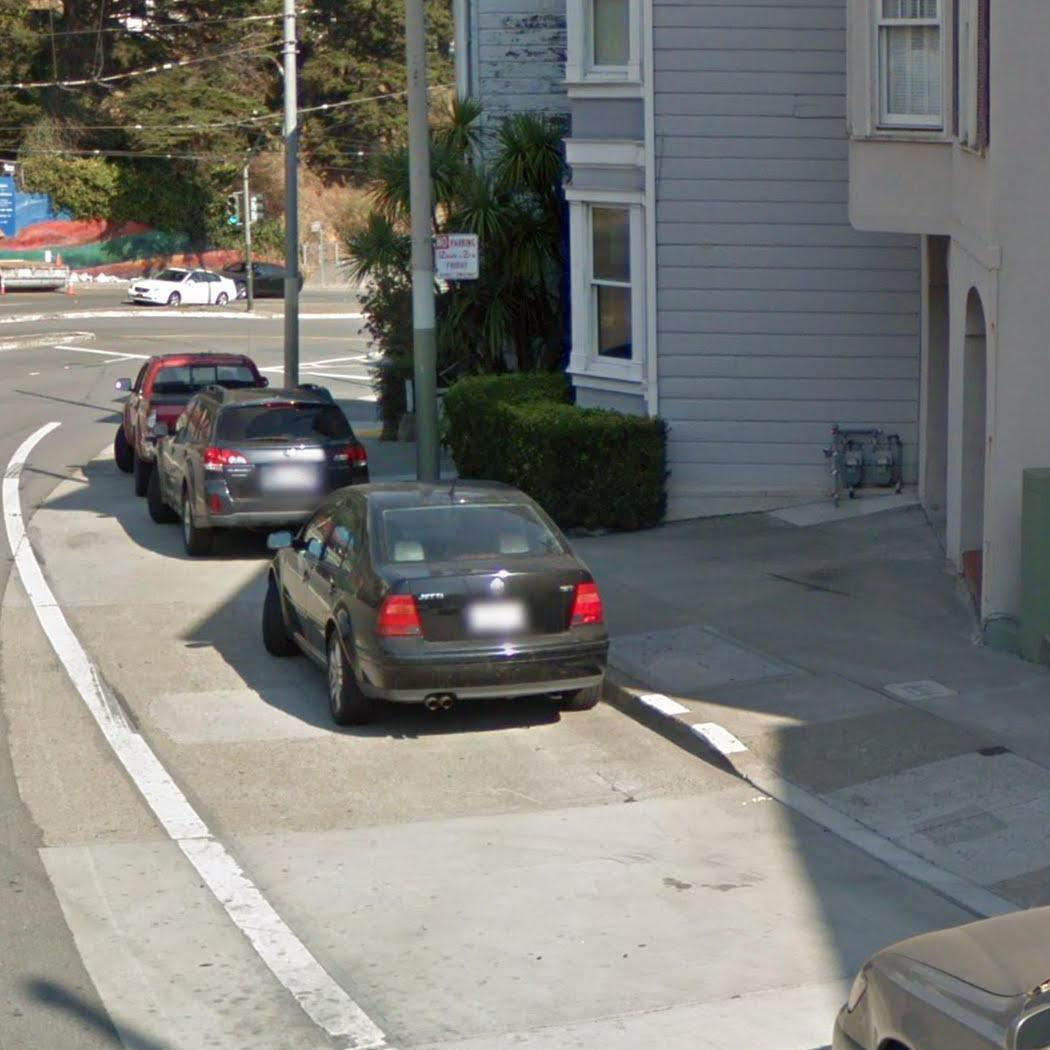No Parking: (431, 232, 481, 282)
